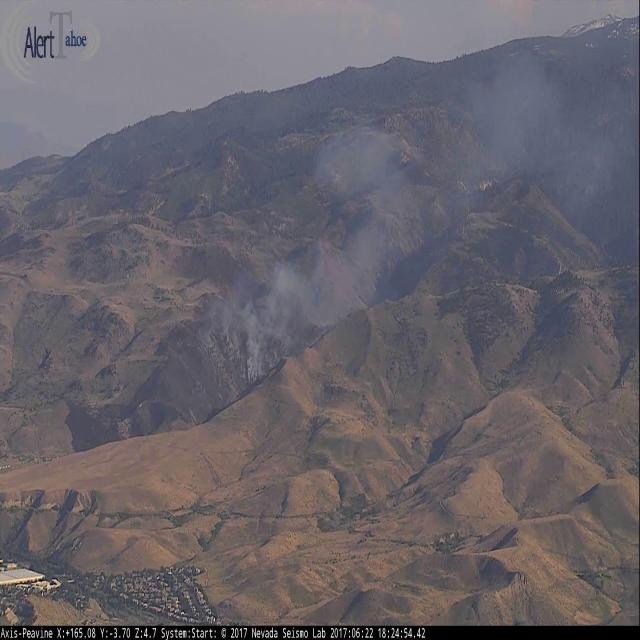smoke: (223, 0, 640, 420)
